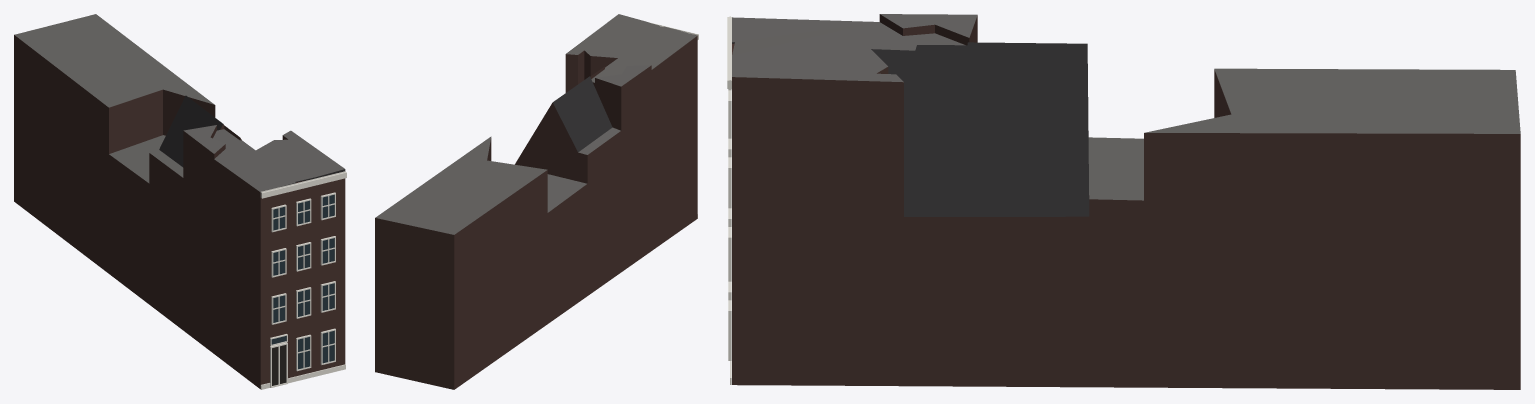
3 views of the same model, side by side, from view 1: azimuth 30°, elevation 25°; view 2: azimuth 150°, elevation 25°; view 3: azimuth 270°, elevation 25° (orthographic). The views are drawn at different scales.
Visible parts, largest first — view 1: spec-0363100012171187; view 2: spec-0363100012171187; view 3: spec-0363100012171187.
Part boxes in pixels (box(x1,y1,x2,y2)): spec-0363100012171187: box(14, 14, 346, 389); spec-0363100012171187: box(375, 14, 698, 389); spec-0363100012171187: box(727, 14, 1520, 389).
Size of the model in its own units: 6.17 by 12.92 by 30.13.
